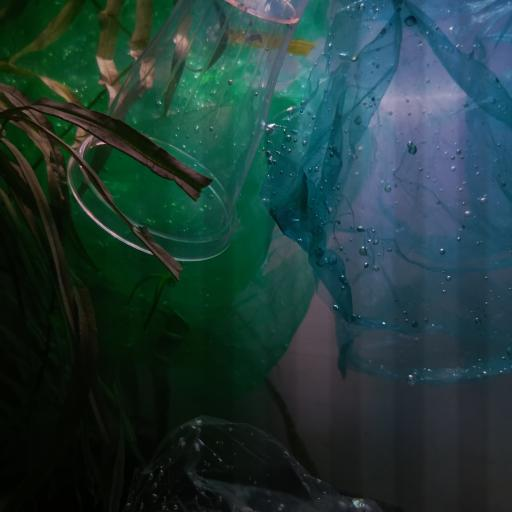plastic_bag: (2, 0, 309, 431), (265, 0, 512, 389), (117, 414, 379, 512)
plastic_cup: (66, 0, 310, 261)
